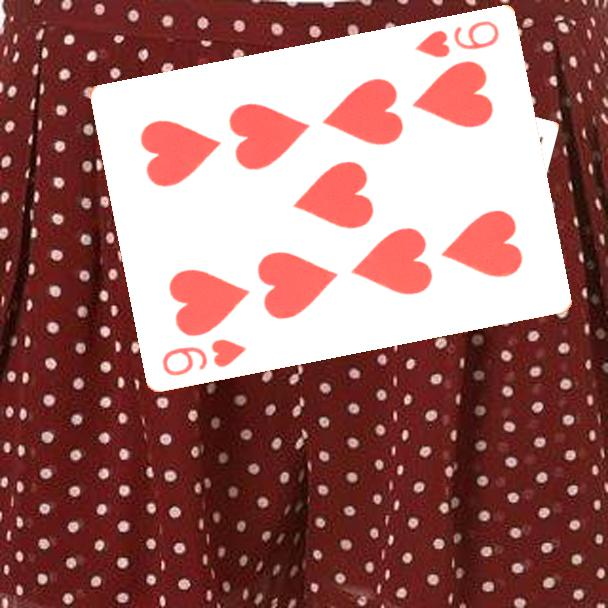h09: (412, 16, 503, 60), (159, 335, 250, 379)
